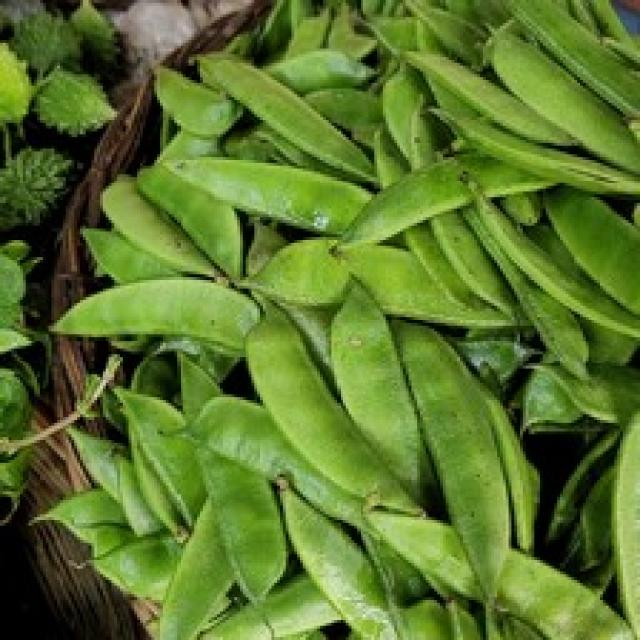Bean: (46, 0, 637, 637)
